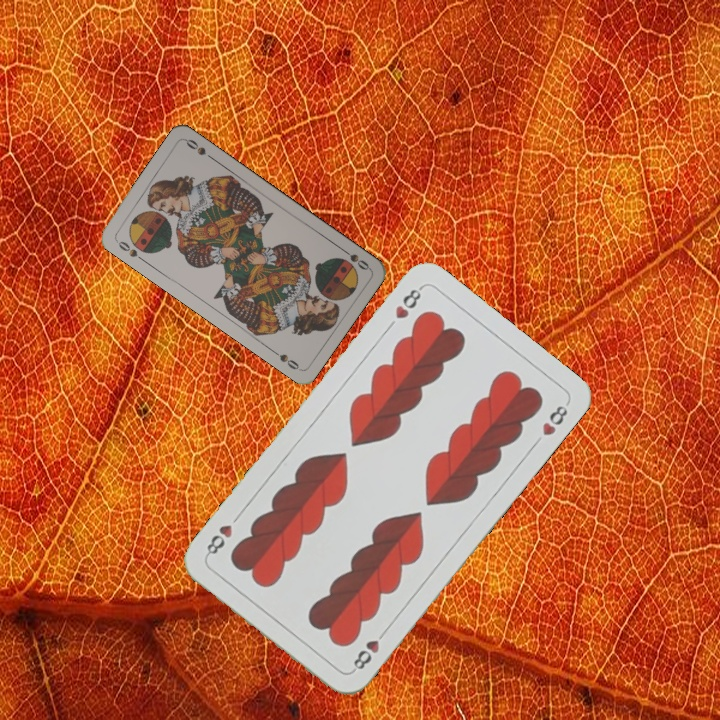H8: (348, 625, 390, 675), (391, 282, 426, 322)
SO: (112, 236, 149, 264), (337, 244, 372, 273)
